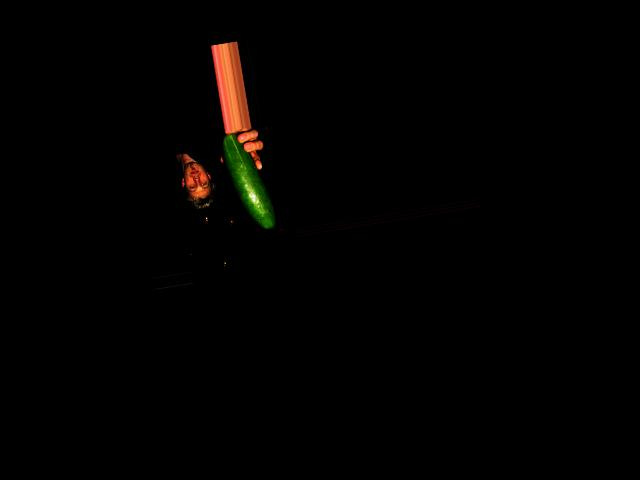cucumber: (220, 129, 277, 234)
